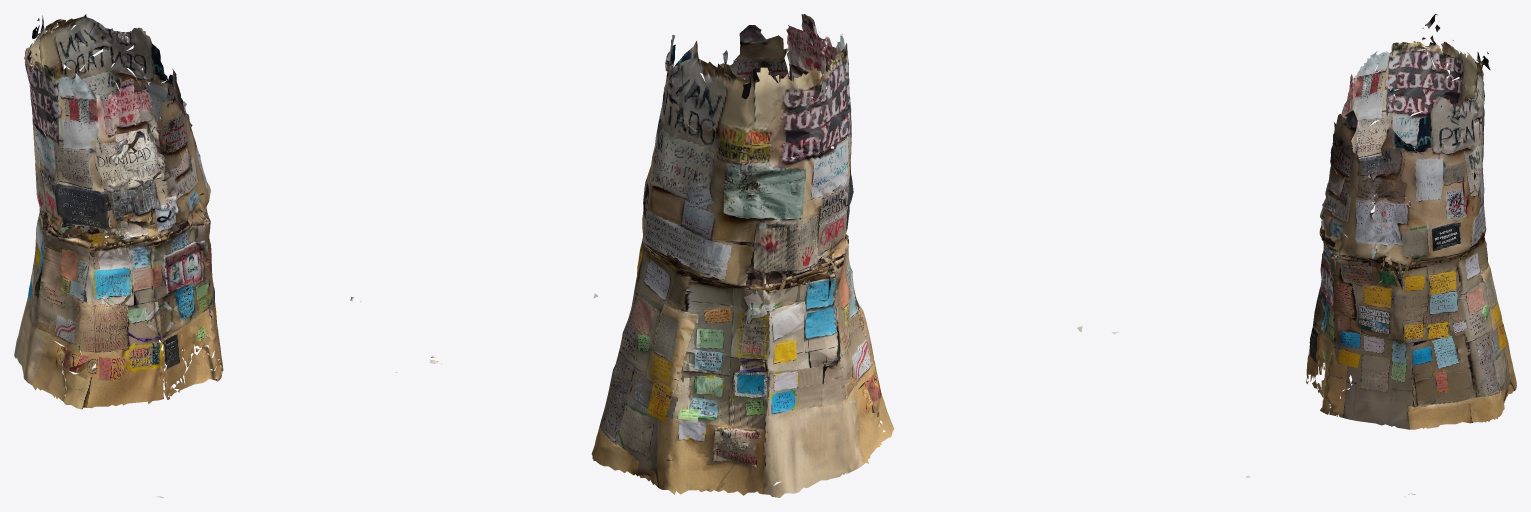
The model's file is vigilante.glb.
The picture shows the model from 3 angles, left to right: view 1: azimuth 30°, elevation 25°; view 2: azimuth 150°, elevation 25°; view 3: azimuth 270°, elevation 25°; orthographic projection. The views are drawn at different scales.
Size of the model in its own units: 4.04 by 3.85 by 4.12.
Materials: 3 (3 with a texture image).
